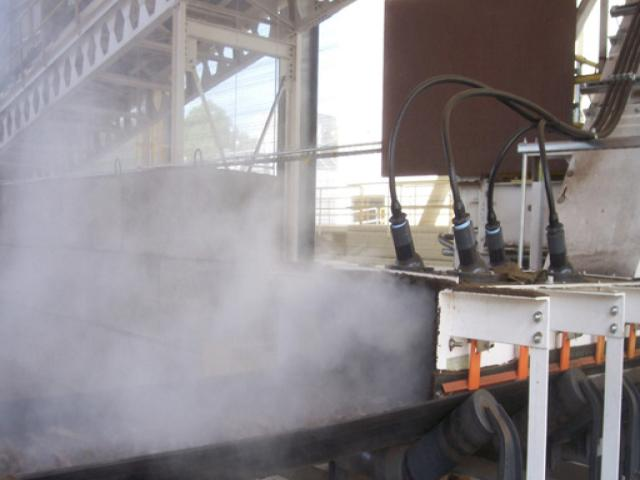conveyor: (1, 358, 452, 479)
